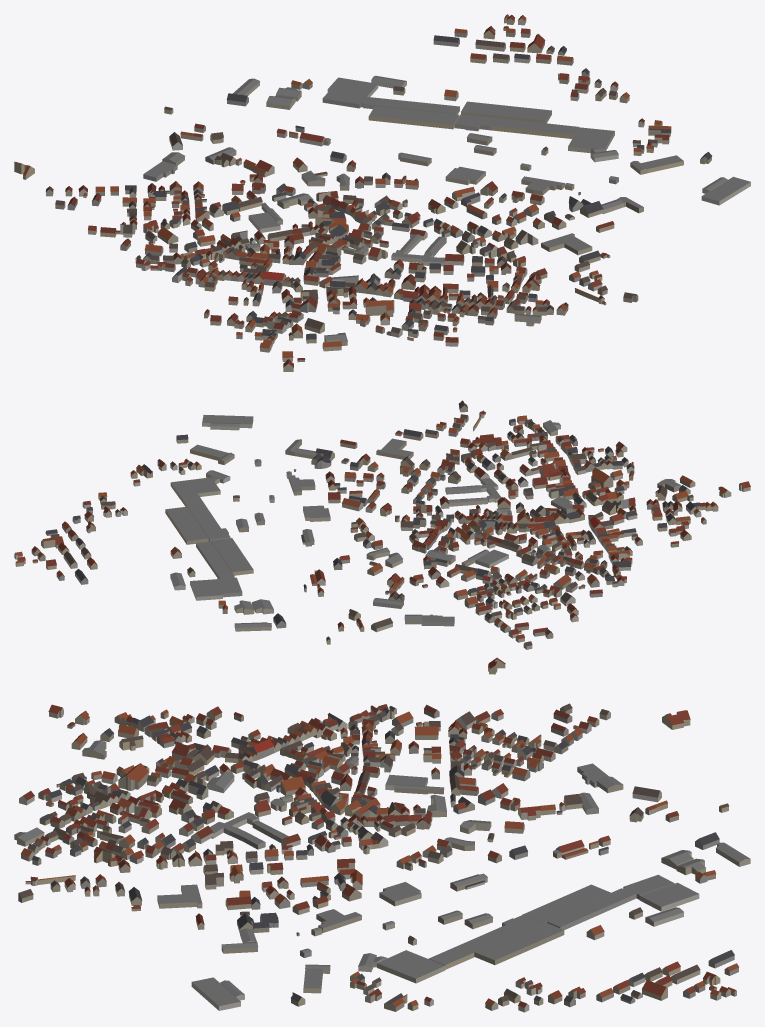
3 views of the same model, one above another, from view 1: azimuth 30°, elevation 25°; view 2: azimuth 150°, elevation 25°; view 3: azimuth 270°, elevation 25° (orthographic). The views are drawn at different scales.
Visible parts, largest first — view 1: buildings; view 2: buildings; view 3: buildings.
Part boxes in pixels (x1,y1,x2,y2): buildings: (14, 14, 750, 371); buildings: (14, 400, 750, 674); buildings: (14, 703, 750, 1012).
Size of the model in its own units: 810 by 27.96 by 832.
